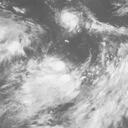cyclone: (49, 58, 67, 74)
